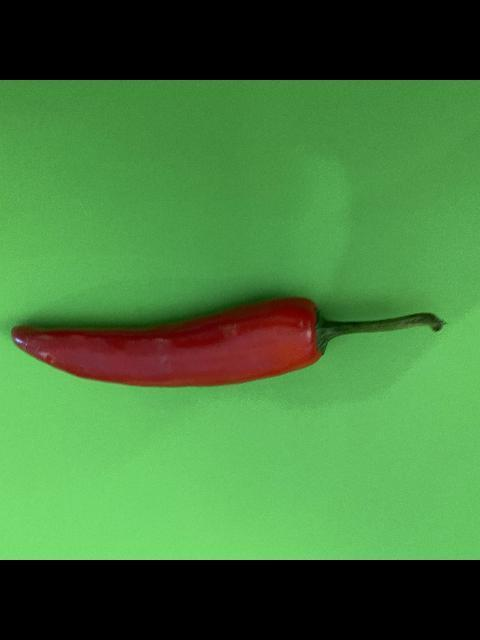chilli: (9, 292, 445, 392)
